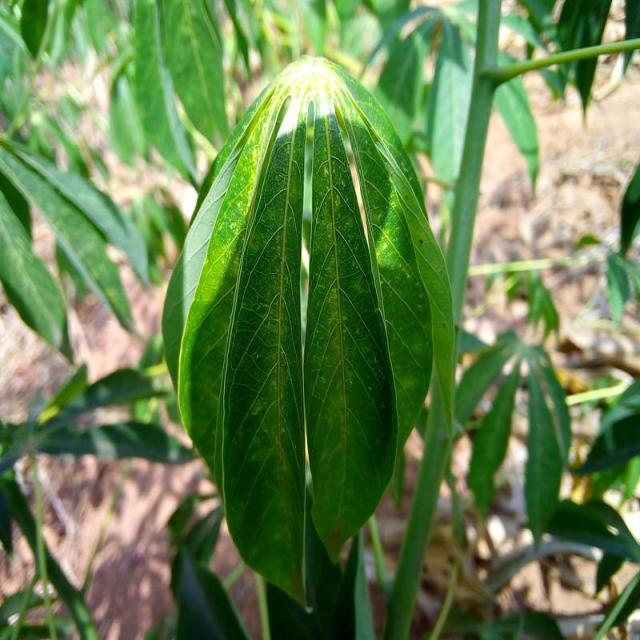cassava leaf: (160, 52, 456, 608)
